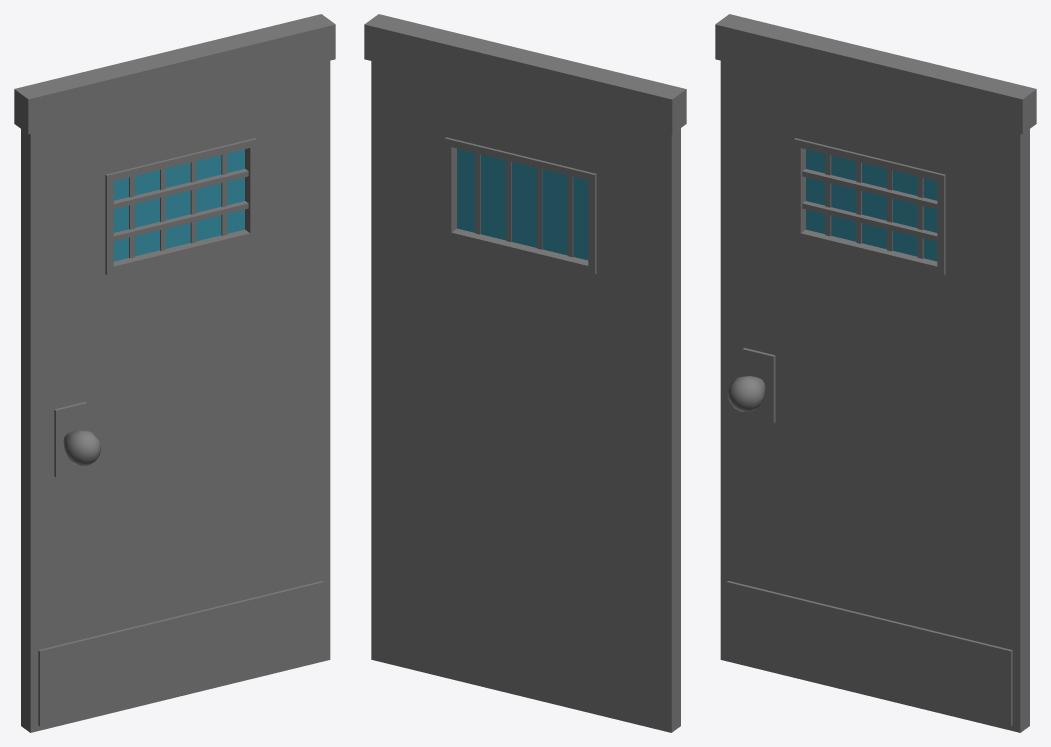
Rendered from SM_door_02.fbx.
3 views of the same model, side by side, from view 1: azimuth 30°, elevation 25°; view 2: azimuth 150°, elevation 25°; view 3: azimuth 330°, elevation 25° (orthographic).
Visible parts, largest first — view 1: Object110; view 2: Object110; view 3: Object110.
Boxes of the visible parts, <box> form: Object110: <box>14,14,335,732</box>; Object110: <box>364,14,686,732</box>; Object110: <box>715,14,1036,732</box>.
Size of the model in its own units: 43.67 by 86.3 by 8.69.
